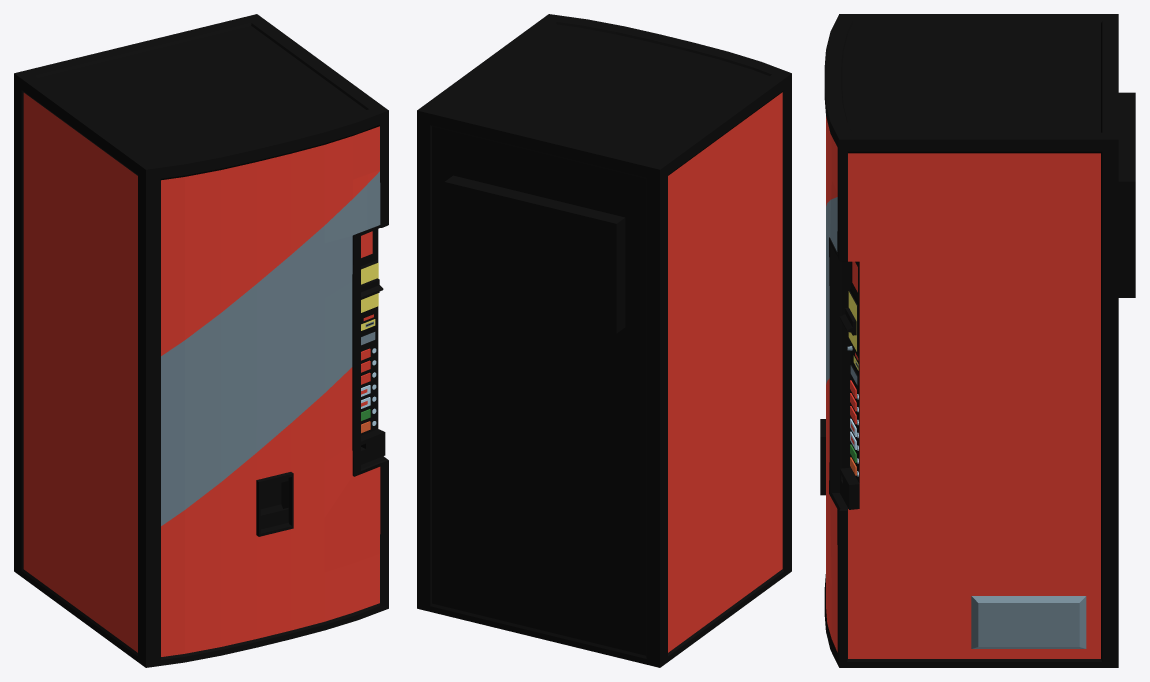
Rendered from vending.glb.
3 views of the same model, side by side, from view 1: azimuth 30°, elevation 25°; view 2: azimuth 150°, elevation 25°; view 3: azimuth 270°, elevation 25° (orthographic). The views are drawn at different scales.
Parts seen in each view (by area): view 1: conk vendo; view 2: conk vendo; view 3: conk vendo.
Part boxes in pixels (left/top/right/bottom): conk vendo: left=14, top=14, right=388, bottom=667; conk vendo: left=417, top=14, right=791, bottom=667; conk vendo: left=820, top=14, right=1135, bottom=667.
Bounding box in the file's own units: 5.04 × 9.71 × 5.26.
2 materials, 2 textured.
